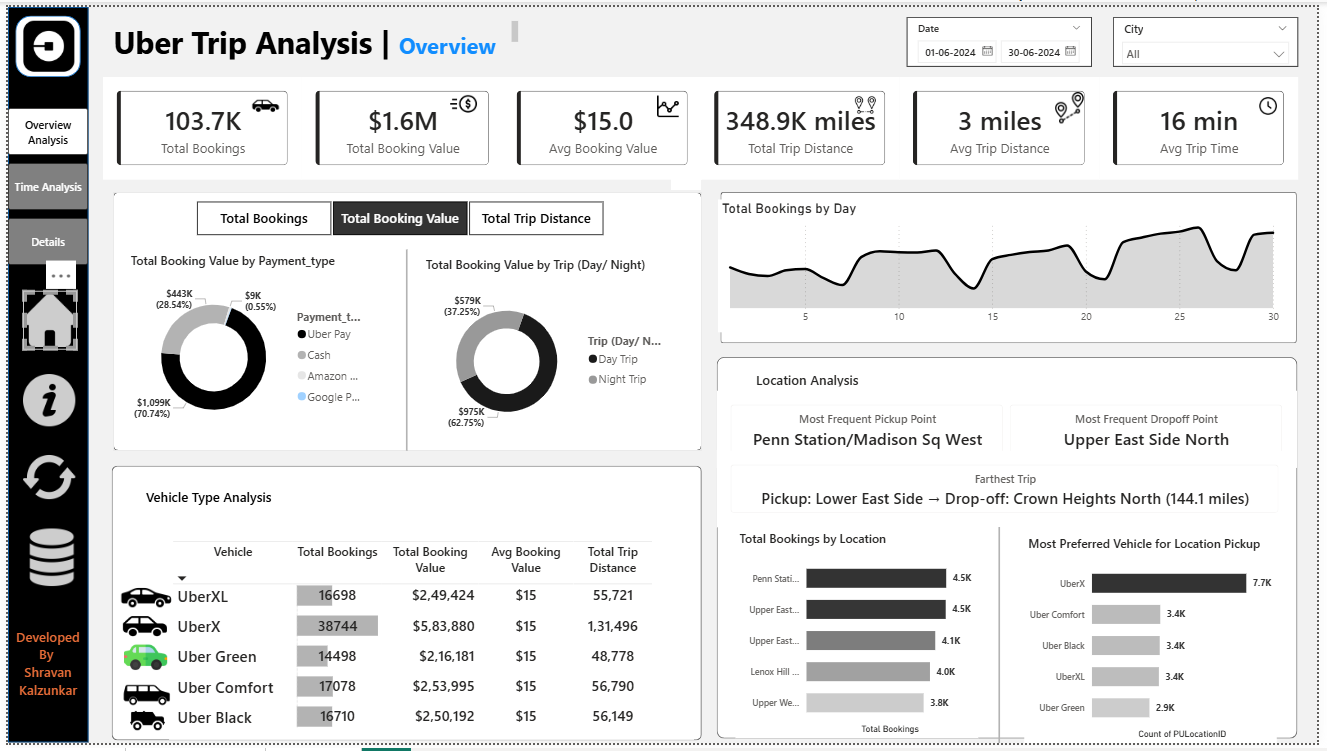

This screenshot's page, from the dashboard's own definition file:
{"tool":"powerbi","page":{"name":"Overview Analysis","canvas":[1600,900],"ordinal":0},"visuals":[{"type":"shape","box":[128.4,226.2,719.9,316.4],"z":0},{"type":"shape","box":[126.5,560.5,721.3,335.7],"z":1000},{"type":"shape","box":[0,0,98.4,899.3],"z":2000},{"type":"shape","box":[866.7,428.3,710,466.7],"z":3000},{"type":"textbox","box":[123.3,11.7,505,56.7],"z":4000},{"type":"cardVisual","fields":{"Data":["Trip Details.Total Bookings"]},"box":[116.2,85.6,243,125.3],"z":5000},{"type":"cardVisual","fields":{"Data":["Trip Details.Total Booking Value"]},"box":[359.2,85.6,246.1,125.3],"z":6000},{"type":"cardVisual","fields":{"Data":["Trip Details.Avg Booking Amount"]},"box":[605.3,85.6,243,125.3],"z":7000},{"type":"cardVisual","fields":{"Data":["Trip Details.Total Trip Distance"]},"box":[846.8,85.6,243,125.3],"z":8000},{"type":"cardVisual","fields":{"Data":["Trip Details.Avg Trip Distance"]},"box":[1089.8,85.6,244.6,125.3],"z":9000},{"type":"cardVisual","fields":{"Data":["Trip Details.Avg Trip Time"]},"box":[1334.4,85.6,243,125.3],"z":10000},{"type":"image","box":[531.9,102.4,50.4,32.1],"z":11000},{"type":"image","box":[1273.3,103.9,52,38.2],"z":12000},{"type":"image","box":[1034.8,107,27.5,26],"z":13000},{"type":"image","box":[1530.1,107,21.4,27.5],"z":14000},{"type":"image","box":[791.8,105.5,30.6,32.1],"z":15000},{"type":"image","box":[295,103.9,39.7,33.6],"z":16000},{"type":"slicer","fields":{"Values":["Dynamic Mmeasure.Dynamic Mmeasure"]},"box":[204.8,230.8,547.2,55],"z":17000},{"type":"donutChart","fields":{"Y":["Trip Details.Total Booking Value"],"Category":["Trip Details.Payment_type"]},"box":[145.5,300,300,237.9],"z":18000},{"type":"donutChart","fields":{"Y":["Trip Details.Total Booking Value"],"Series":["Trip Details.Trip Type (Day/ Night)"]},"box":[505.9,304.2,301.1,238.5],"z":19000},{"type":"pivotTable","fields":{"Rows":["Trip Details.Vehicle"],"Values":["Trip Details.Total Bookings","Trip Details.Total Booking Value","Trip Details.Avg Booking Value","Trip Details.Total Trip Distance Measure"]},"box":[196.7,647.9,641.7,248.2],"z":20000},{"type":"image","box":[131.1,688.5,74.9,68.7],"z":21000},{"type":"image","box":[131.1,729.1,71.8,56.2],"z":22000},{"type":"image","box":[131.1,768.2,73.4,53.1],"z":23000},{"type":"image","box":[123.3,810.3,90.6,62.5],"z":24000},{"type":"image","box":[123.3,850.9,93.7,42.2],"z":25000},{"type":"cardVisual","fields":{"Data":["Trip Details.Title for Grid"]},"box":[128,565.2,234.2,65.6],"z":26000},{"type":"shape","box":[871.3,226.2,704.7,185],"z":27000},{"type":"areaChart","fields":{"Category":["Calendar Table.Date.Variation.Date Hierarchy.Day"],"Y":["Trip Details.Total Bookings"]},"box":[868.2,235.4,694,162],"z":28000},{"type":"cardVisual","fields":{"Data":["Trip Details.Most Frequent Pickup Point","Trip Details.Most Frequent Dropoff Point"]},"box":[866.7,469.3,709.2,94.8],"z":29000},{"type":"cardVisual","fields":{"Data":["Trip Details.Farthest Trip"]},"box":[866.7,542.6,704.7,93.2],"z":30000},{"type":"barChart","fields":{"Category":["Location Table.Location"],"Y":["Trip Details.Total Bookings"]},"box":[889.6,638.9,296.5,255.3],"z":31000},{"type":"barChart","title":"Most Preferred Vehicle for Location Pickup","fields":{"Category":["Trip Details.Vehicle"],"Y":["CountNonNull(Trip Details.PULocationID)"]},"box":[1242.7,645,308.8,255.3],"z":32000},{"type":"shape","box":[464.7,296.5,45.9,246.1],"z":33000},{"type":"shape","box":[1062.3,635.9,299.6,264.4],"z":34000},{"type":"cardVisual","fields":{"Data":["Trip Details.Title for Location"]},"box":[868.2,428,218.6,53.5],"z":35000},{"type":"slicer","fields":{"Values":["Calendar Table.Date"]},"box":[1099,12.2,226.2,61.1],"z":36000},{"type":"slicer","fields":{"Values":["Location Table.City"]},"box":[1351.2,12.2,226.2,61.1],"z":37000},{"type":"shape","box":[9.4,10.9,79.6,74.9],"z":38000},{"type":"image","box":[9.4,17.2,81.2,62.5],"z":39000},{"type":"pageNavigator","box":[0,123.3,98.4,193.6],"z":40000},{"type":"image","box":[18.3,347,65.7,71.8],"z":41000},{"type":"image","box":[18.3,444.8,64.2,71.8],"z":42000},{"type":"image","box":[18.3,538,64.2,73.4],"z":43000},{"type":"image","box":[18.3,631.3,70.3,82.5],"z":44000},{"type":"textbox","box":[0,753.6,97.8,99.4],"z":46000}]}

Visuals, with their boxes on the page's 1600x900 design canvas (x1, y1, x2, y2). These are canvas units, not pixel positions in the 1327x751 screenshot, which may show the page scaled, cropped or inside an application window:
shape: crop(128, 226, 848, 543)
shape: crop(126, 560, 848, 896)
shape: crop(0, 0, 98, 899)
shape: crop(867, 428, 1577, 895)
textbox: crop(123, 12, 628, 68)
cardVisual - Trip Details.Total Bookings: crop(116, 86, 359, 211)
cardVisual - Trip Details.Total Booking Value: crop(359, 86, 605, 211)
cardVisual - Trip Details.Avg Booking Amount: crop(605, 86, 848, 211)
cardVisual - Trip Details.Total Trip Distance: crop(847, 86, 1090, 211)
cardVisual - Trip Details.Avg Trip Distance: crop(1090, 86, 1334, 211)
cardVisual - Trip Details.Avg Trip Time: crop(1334, 86, 1577, 211)
image: crop(532, 102, 582, 134)
image: crop(1273, 104, 1325, 142)
image: crop(1035, 107, 1062, 133)
image: crop(1530, 107, 1552, 134)
image: crop(792, 106, 822, 138)
image: crop(295, 104, 335, 138)
slicer - Dynamic Mmeasure.Dynamic Mmeasure: crop(205, 231, 752, 286)
donutChart - Trip Details.Total Booking Value x Trip Details.Payment_type: crop(146, 300, 446, 538)
donutChart - Trip Details.Total Booking Value x Trip Details.Trip Type (Day/ Night): crop(506, 304, 807, 543)
pivotTable - Trip Details.Vehicle x Trip Details.Total Bookings: crop(197, 648, 838, 896)
image: crop(131, 688, 206, 757)
image: crop(131, 729, 203, 785)
image: crop(131, 768, 204, 821)
image: crop(123, 810, 214, 873)
image: crop(123, 851, 217, 893)
cardVisual - Trip Details.Title for Grid: crop(128, 565, 362, 631)
shape: crop(871, 226, 1576, 411)
areaChart - Calendar Table.Date.Variation.Date Hierarchy.Day x Trip Details.Total Bookings: crop(868, 235, 1562, 397)
cardVisual - Trip Details.Most Frequent Pickup Point x Trip Details.Most Frequent Dropoff Point: crop(867, 469, 1576, 564)
cardVisual - Trip Details.Farthest Trip: crop(867, 543, 1571, 636)
barChart - Location Table.Location x Trip Details.Total Bookings: crop(890, 639, 1186, 894)
"Most Preferred Vehicle for Location Pickup" barChart: crop(1243, 645, 1552, 900)
shape: crop(465, 296, 511, 543)
shape: crop(1062, 636, 1362, 900)
cardVisual - Trip Details.Title for Location: crop(868, 428, 1087, 482)
slicer - Calendar Table.Date: crop(1099, 12, 1325, 73)
slicer - Location Table.City: crop(1351, 12, 1577, 73)
shape: crop(9, 11, 89, 86)
image: crop(9, 17, 91, 80)
pageNavigator: crop(0, 123, 98, 317)
image: crop(18, 347, 84, 419)
image: crop(18, 445, 82, 517)
image: crop(18, 538, 82, 611)
image: crop(18, 631, 89, 714)
textbox: crop(0, 754, 98, 853)
